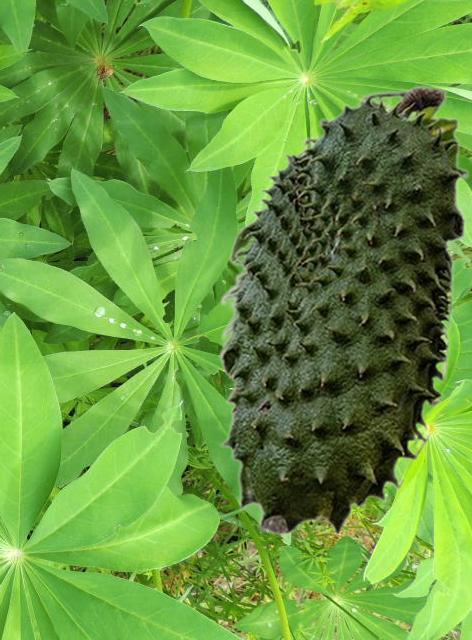guyabano: (217, 84, 468, 536)
